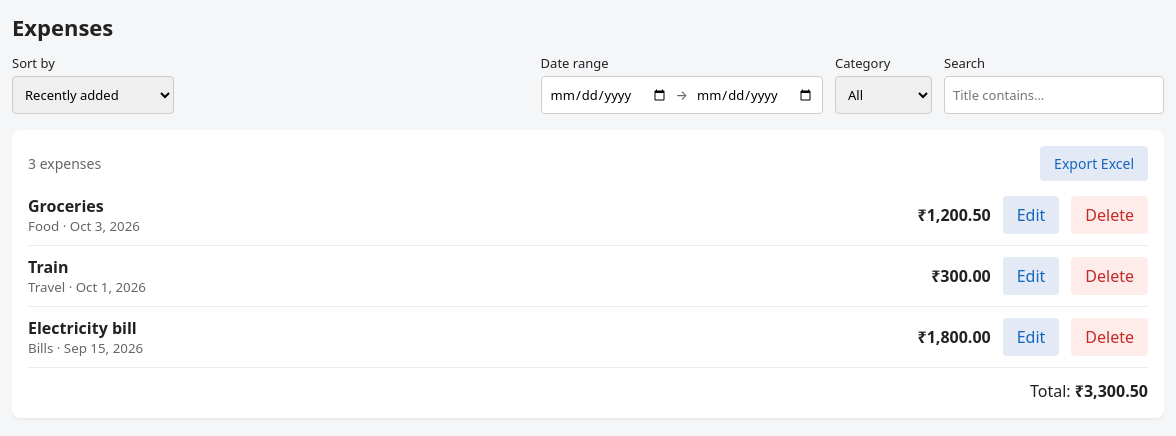
Test: ExpenseListComponent › filters and sorting › sets each end of the range separately, and × clears both
Type "2026-09-30" into the date field named "To date".
click(755, 95); type("2026-09-30")  # box x1=688 y1=77 x2=822 y2=113
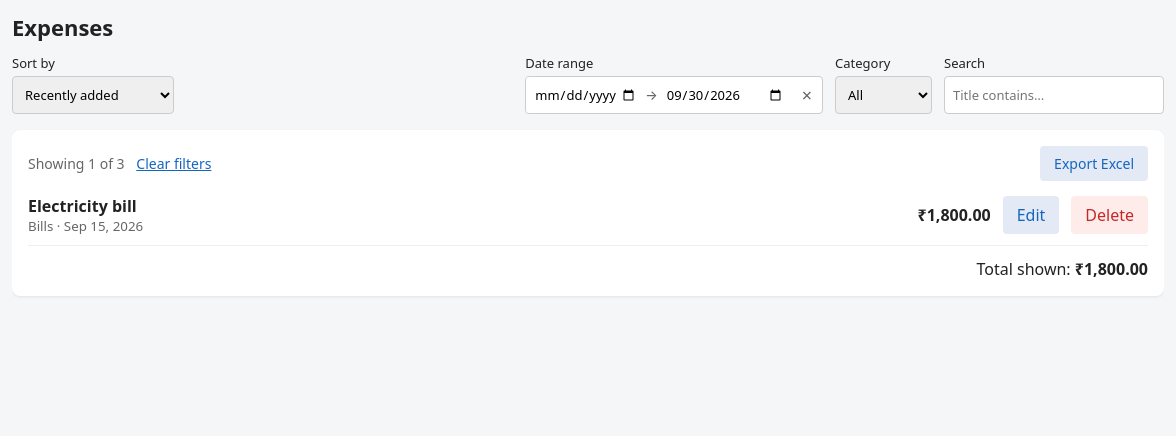
Type "2026-09-20" into the date field with class "from".
click(586, 95); type("2026-09-20")  # box x1=526 y1=77 x2=645 y2=113
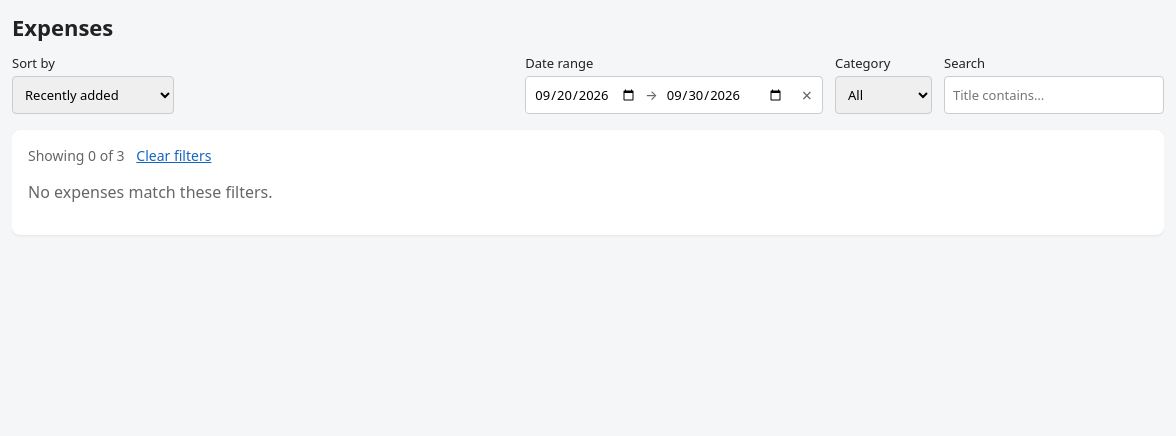
Click the button with class "clear-range".
click(807, 95)  # box x1=792 y1=83 x2=822 y2=107
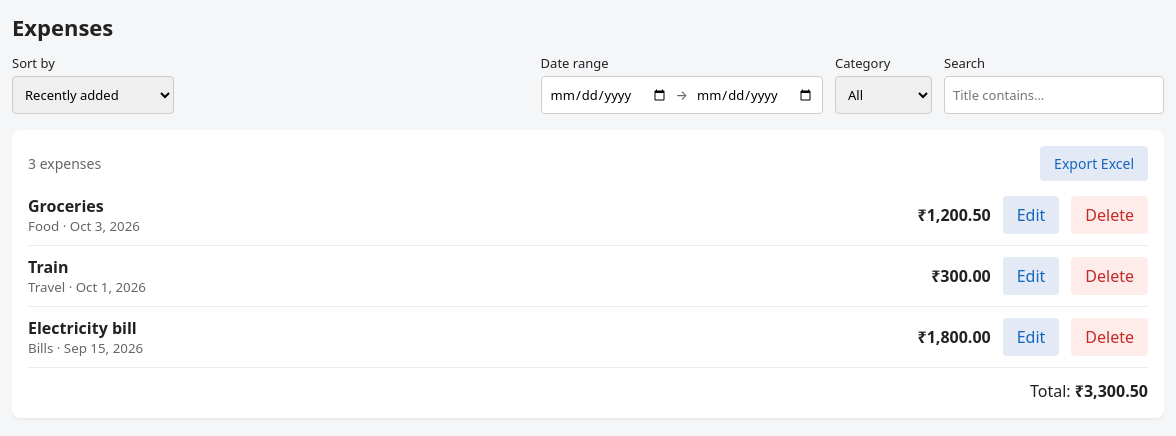
Check: the button with class "clear-range" is gone
